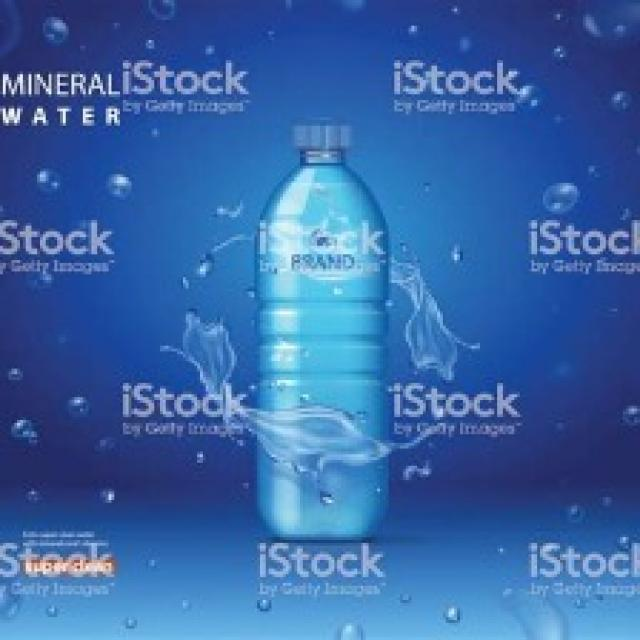plastic_bottle: (241, 138, 395, 543)
